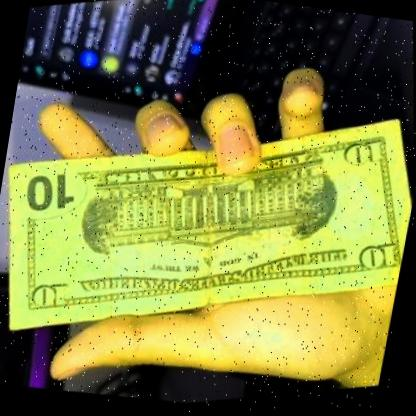dollar_back: (0, 63, 416, 397)
